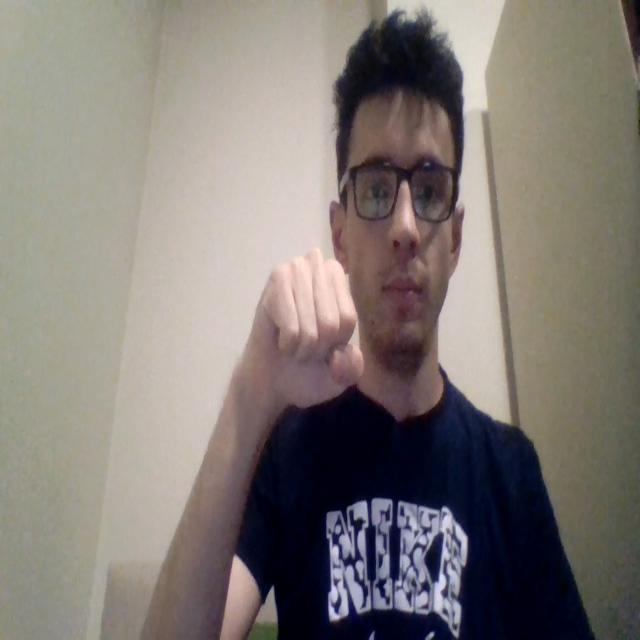yes: (246, 246, 364, 411)
